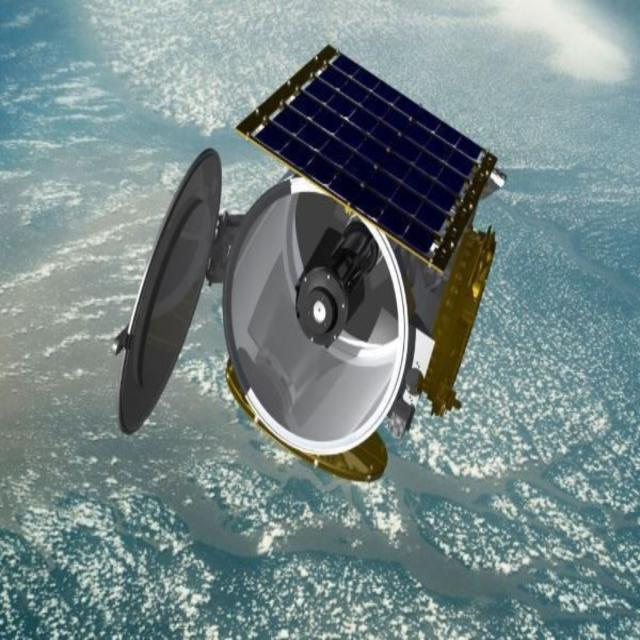medium_debris: (91, 33, 483, 484)
